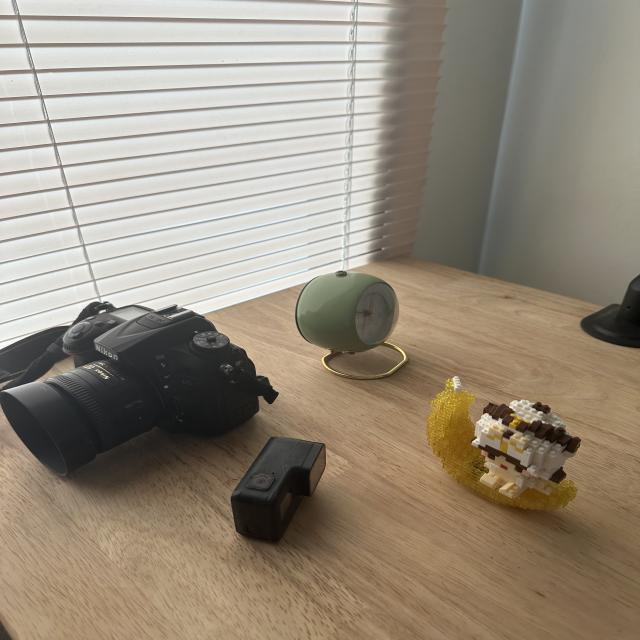actioncam: (199, 414, 355, 556)
camera: (0, 289, 281, 492)
clock: (257, 255, 432, 395)
toy: (395, 367, 607, 526)
